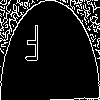F: (25, 25, 40, 70)
